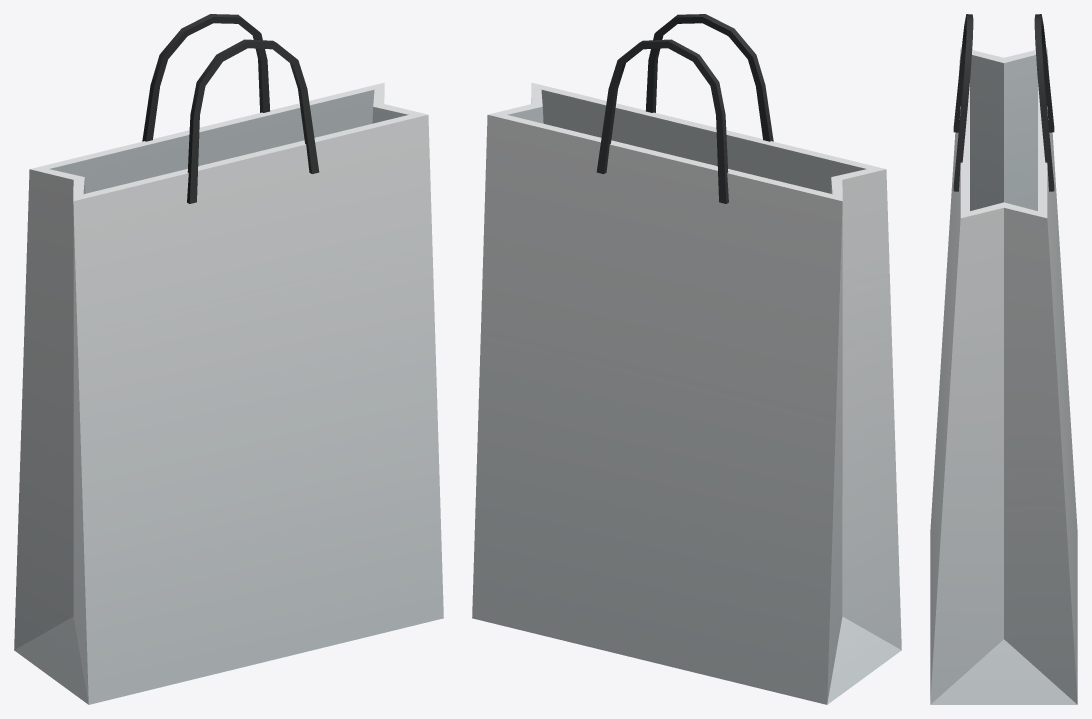
The model's file is Shopper_02.fbx.
3 renders of one model, left to right at view 1: azimuth 30°, elevation 25°; view 2: azimuth 150°, elevation 25°; view 3: azimuth 270°, elevation 25°, orthographic.
Visible parts, largest first — view 1: Shopper_02; view 2: Shopper_02; view 3: Shopper_02.
Boxes of the visible parts, x1=… form: Shopper_02: x1=14, y1=14, x2=443, y2=704; Shopper_02: x1=472, y1=14, x2=901, y2=704; Shopper_02: x1=930, y1=14, x2=1077, y2=704.
Bounding box in the file's own units: 37.51 × 13.66 × 61.24.
